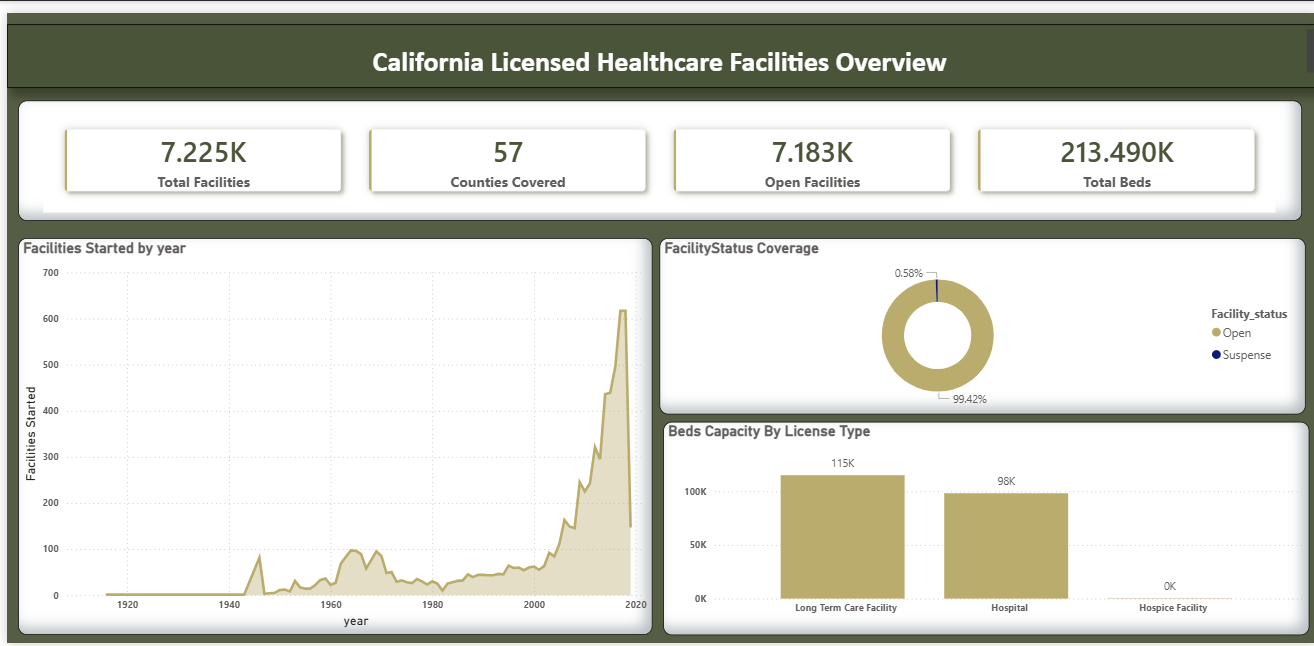

The dashboard page shown, as its layout file describes it:
{"tool":"powerbi","page":{"name":"Overview","canvas":[1500,720],"ordinal":0},"visuals":[{"type":"textbox","box":[0,12.5,1500,72.5],"z":0},{"type":"cardVisual","fields":{"Data":["Sum(public statewide_kpi_summary.total_facilities)","Sum(public statewide_kpi_summary.total_counties)","Sum(public statewide_kpi_summary.open_facilities)","Sum(public statewide_kpi_summary.total_beds)"]},"box":[12.5,100,1467.5,137.5],"z":1000},{"type":"clusteredColumnChart","title":"Beds Capacity By License Type","fields":{"Category":["public facilities_by_license_type.license_type"],"Y":["Sum(public facilities_by_license_type.total_beds)"]},"box":[750,467.5,738.8,243.8],"z":2000},{"type":"donutChart","title":"FacilityStatus Coverage","fields":{"Category":["public facility_status_summary.facility_status"],"Y":["Sum(public facility_status_summary.status_percentage)"]},"box":[746.2,257.5,738.8,201.2],"z":3000},{"type":"areaChart","fields":{"Category":["public facility_start_year_trend.facility_start_year"],"Y":["Sum(public facility_start_year_trend.facilities_started)"]},"box":[12.5,257.5,725,453.8],"z":4000}]}

Visuals, with their boxes in screenshot pixels (x1, y1, x2, y2), scaled from the page's 1500x720 canvas onto the 1314x646 screenshot:
textbox: 0,11,1313,76
cardVisual - Sum(public statewide_kpi_summary.total_facilities) x Sum(public statewide_kpi_summary.total_counties): 11,90,1296,213
"Beds Capacity By License Type" clusteredColumnChart: 657,419,1304,638
"FacilityStatus Coverage" donutChart: 654,231,1301,412
areaChart - public facility_start_year_trend.facility_start_year x Sum(public facility_start_year_trend.facilities_started): 11,231,646,638
